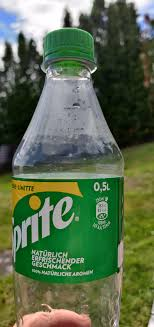HDPE Cap: (43, 28, 95, 49)
HDPE Ring: (43, 51, 95, 59)
PET Bottle: (13, 27, 124, 326)
PVC Label: (13, 178, 124, 279)
